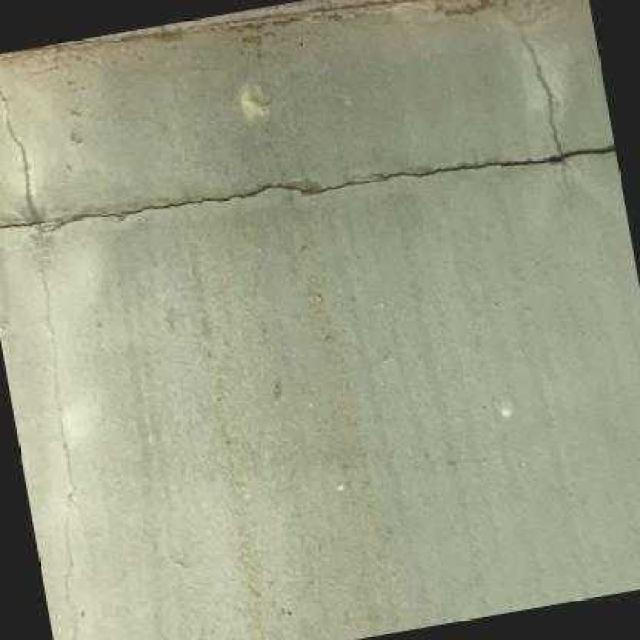D00: (0, 61, 616, 640)
